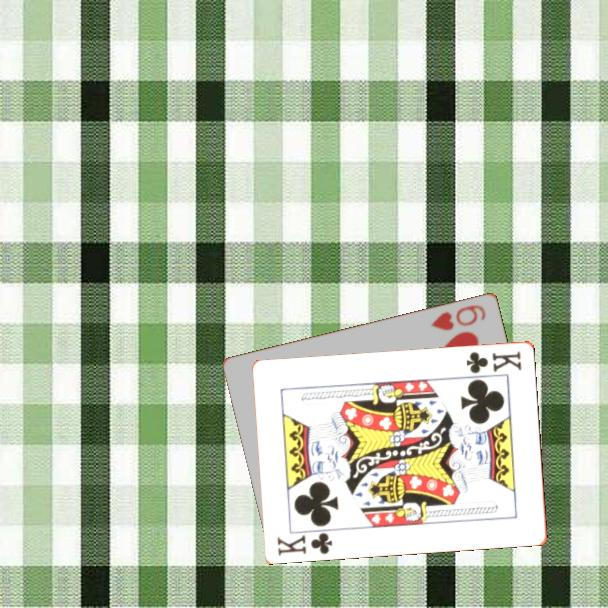c13: (463, 347, 525, 376), (274, 529, 336, 558)
h06: (427, 301, 489, 333)
